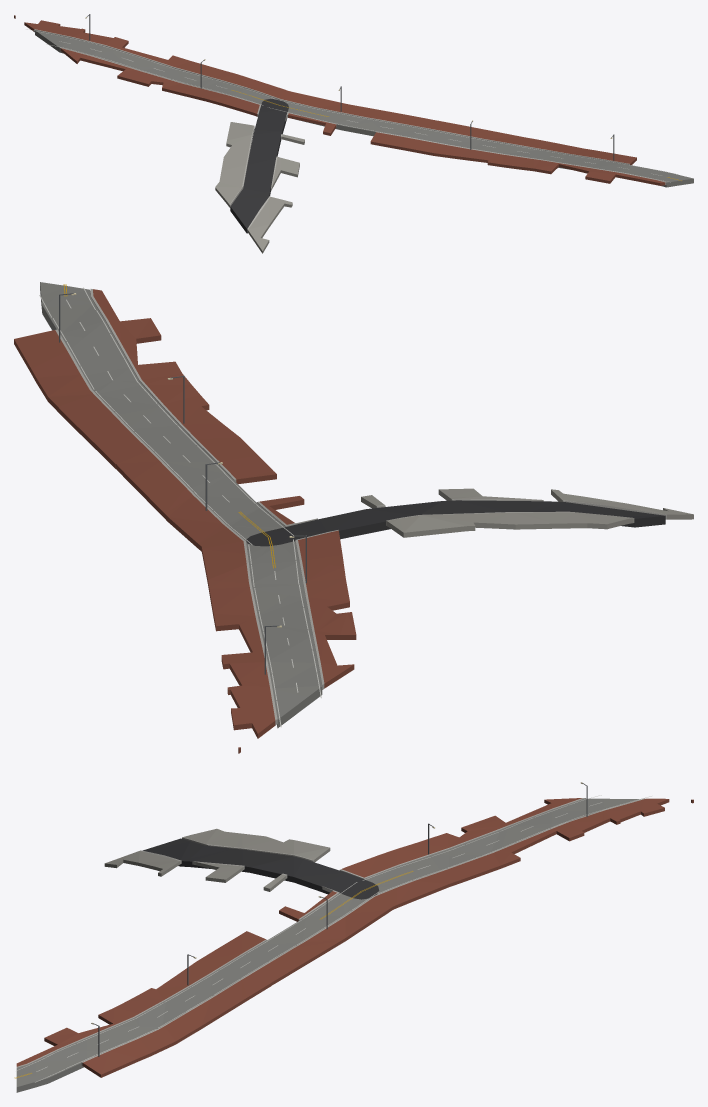
The picture shows the model from 3 angles, top to bottom: view 1: azimuth 30°, elevation 25°; view 2: azimuth 150°, elevation 25°; view 3: azimuth 270°, elevation 25°; orthographic projection. The views are drawn at different scales.
Bounding box in the file's own units: 106 × 21.05 × 132.
